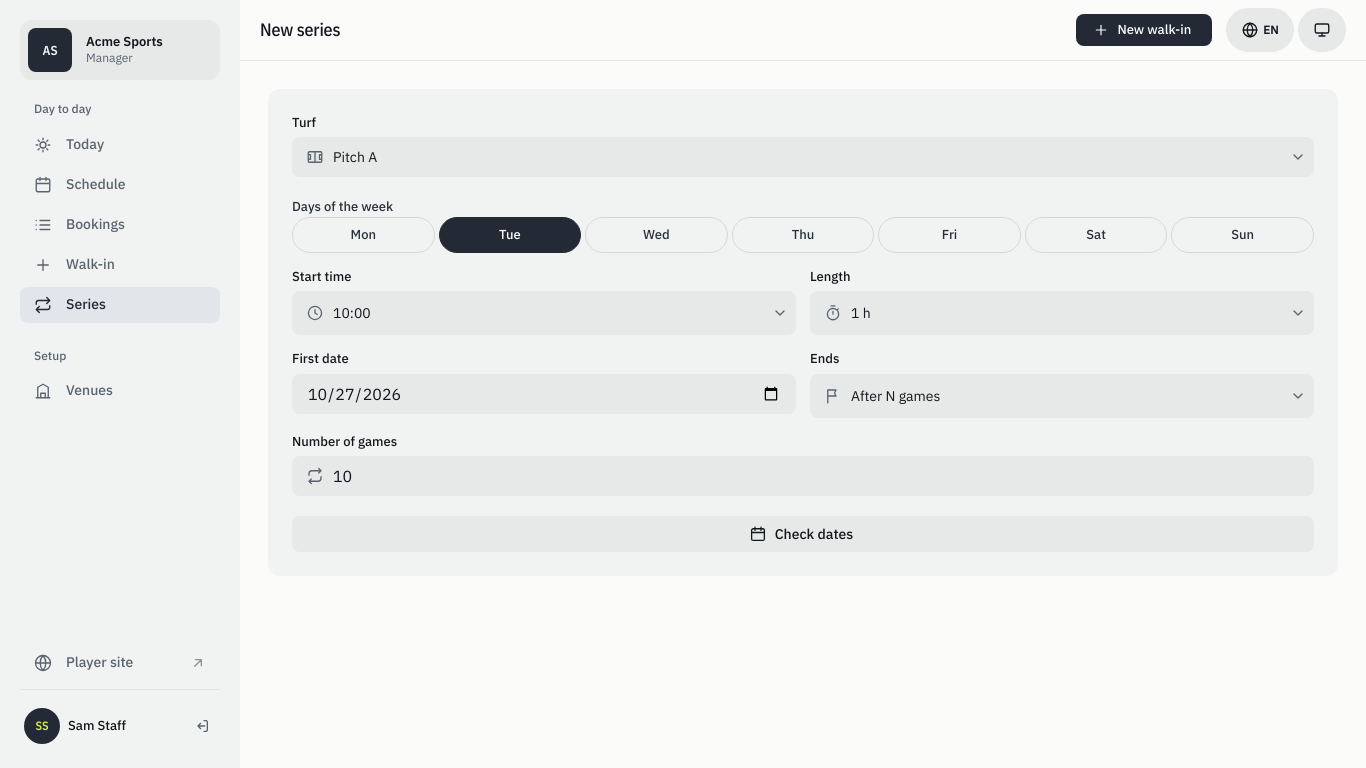
Test case: New series page › book disabled when no free dates
The image size is (1366, 768).
expect the dropdown labelled "Start time" shows "10:00": met, box [292,291,796,335]
Click the button "Check dates" at (803, 534), box [292,516,1314,552]
(page scrolled)
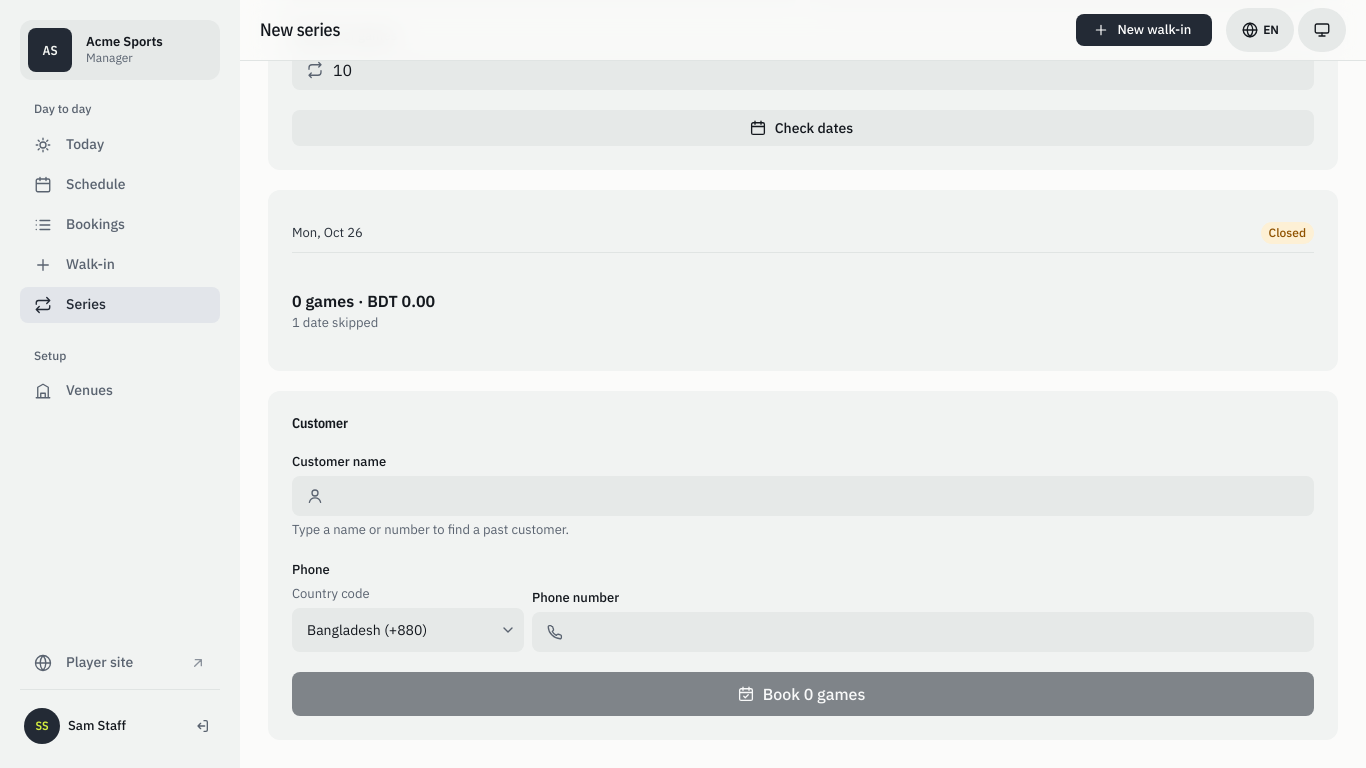
expect the text "Closed" is shown: met, box [1260,222,1314,244]
expect the button "Book 0 games" is disabled: met, box [292,672,1314,716]
